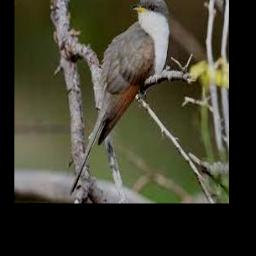Cuckoo: (70, 0, 170, 194)
